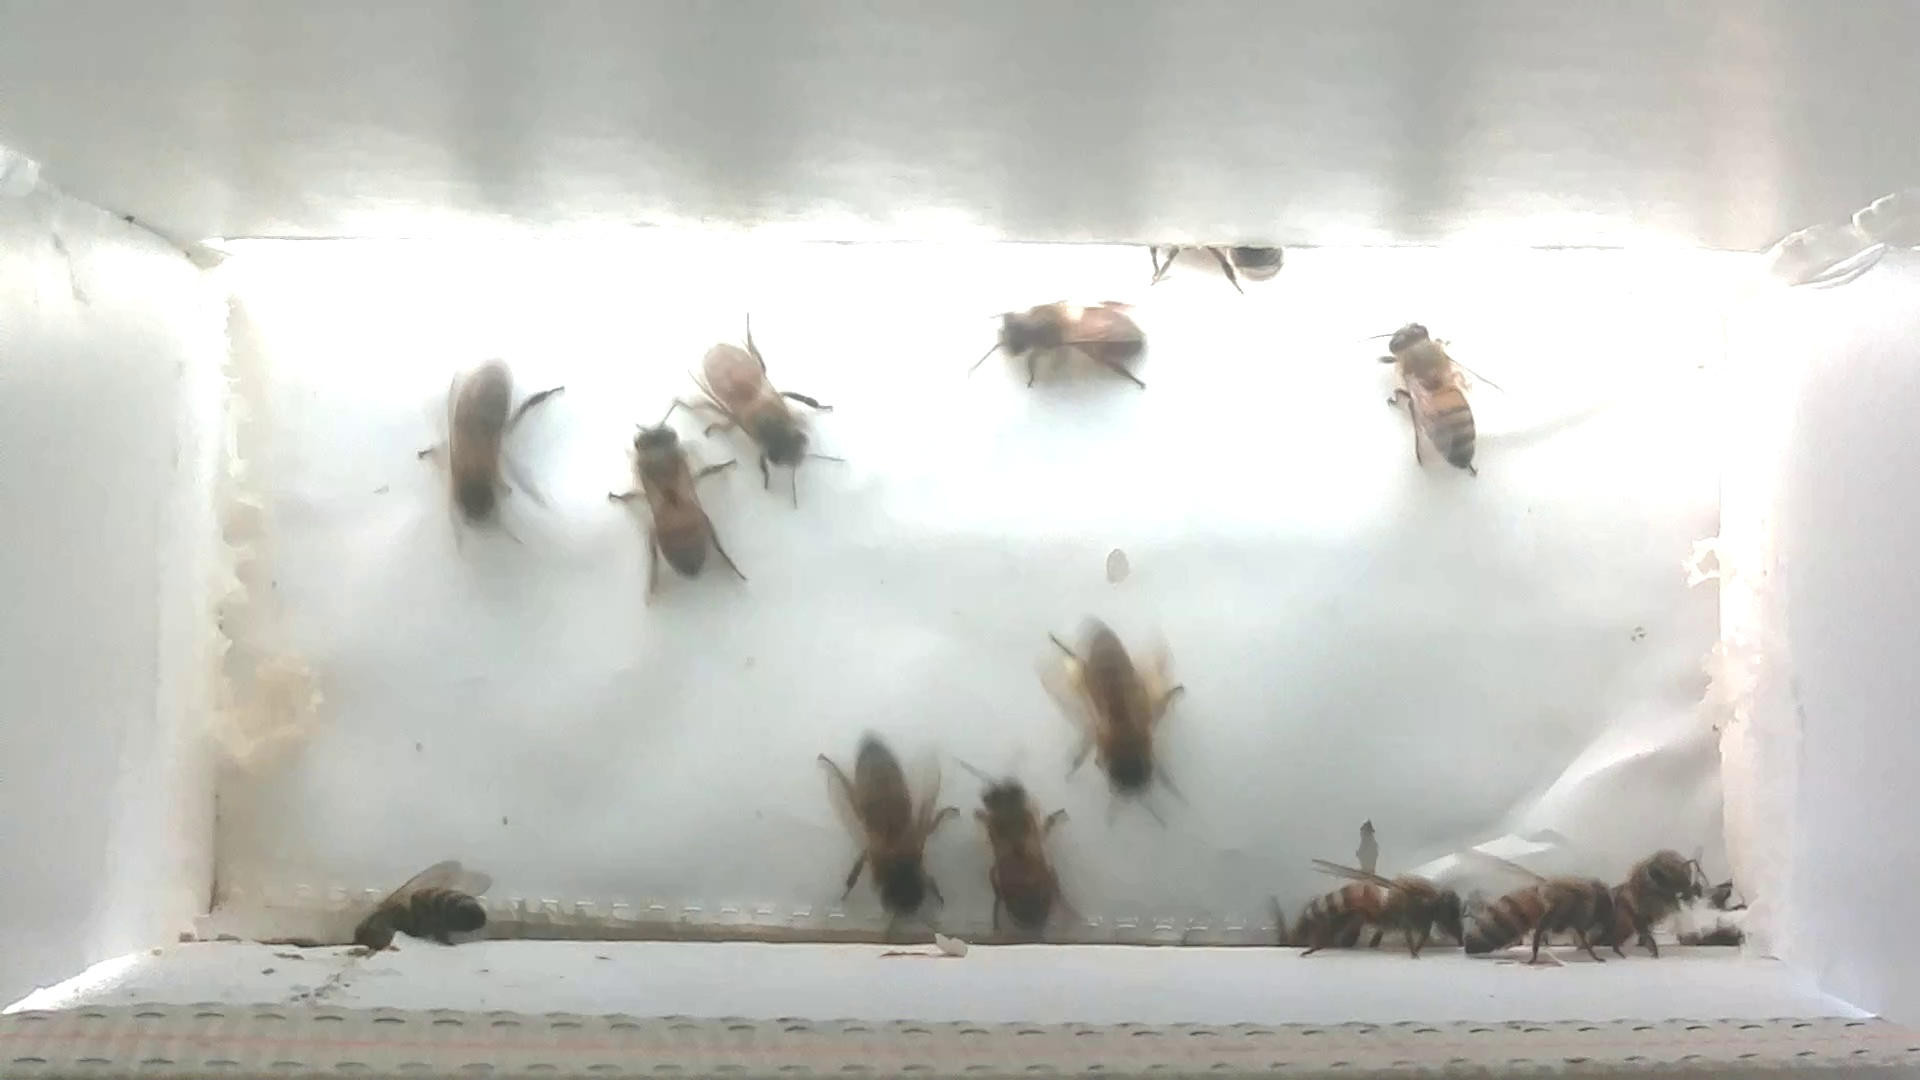bee: (1046, 611, 1205, 833), (405, 343, 564, 546), (680, 320, 853, 508), (811, 725, 964, 924), (1345, 305, 1509, 485), (940, 754, 1088, 948), (601, 404, 744, 589), (1448, 841, 1648, 968), (1276, 843, 1466, 964), (975, 295, 1174, 410), (343, 851, 495, 953), (1607, 833, 1724, 936)
